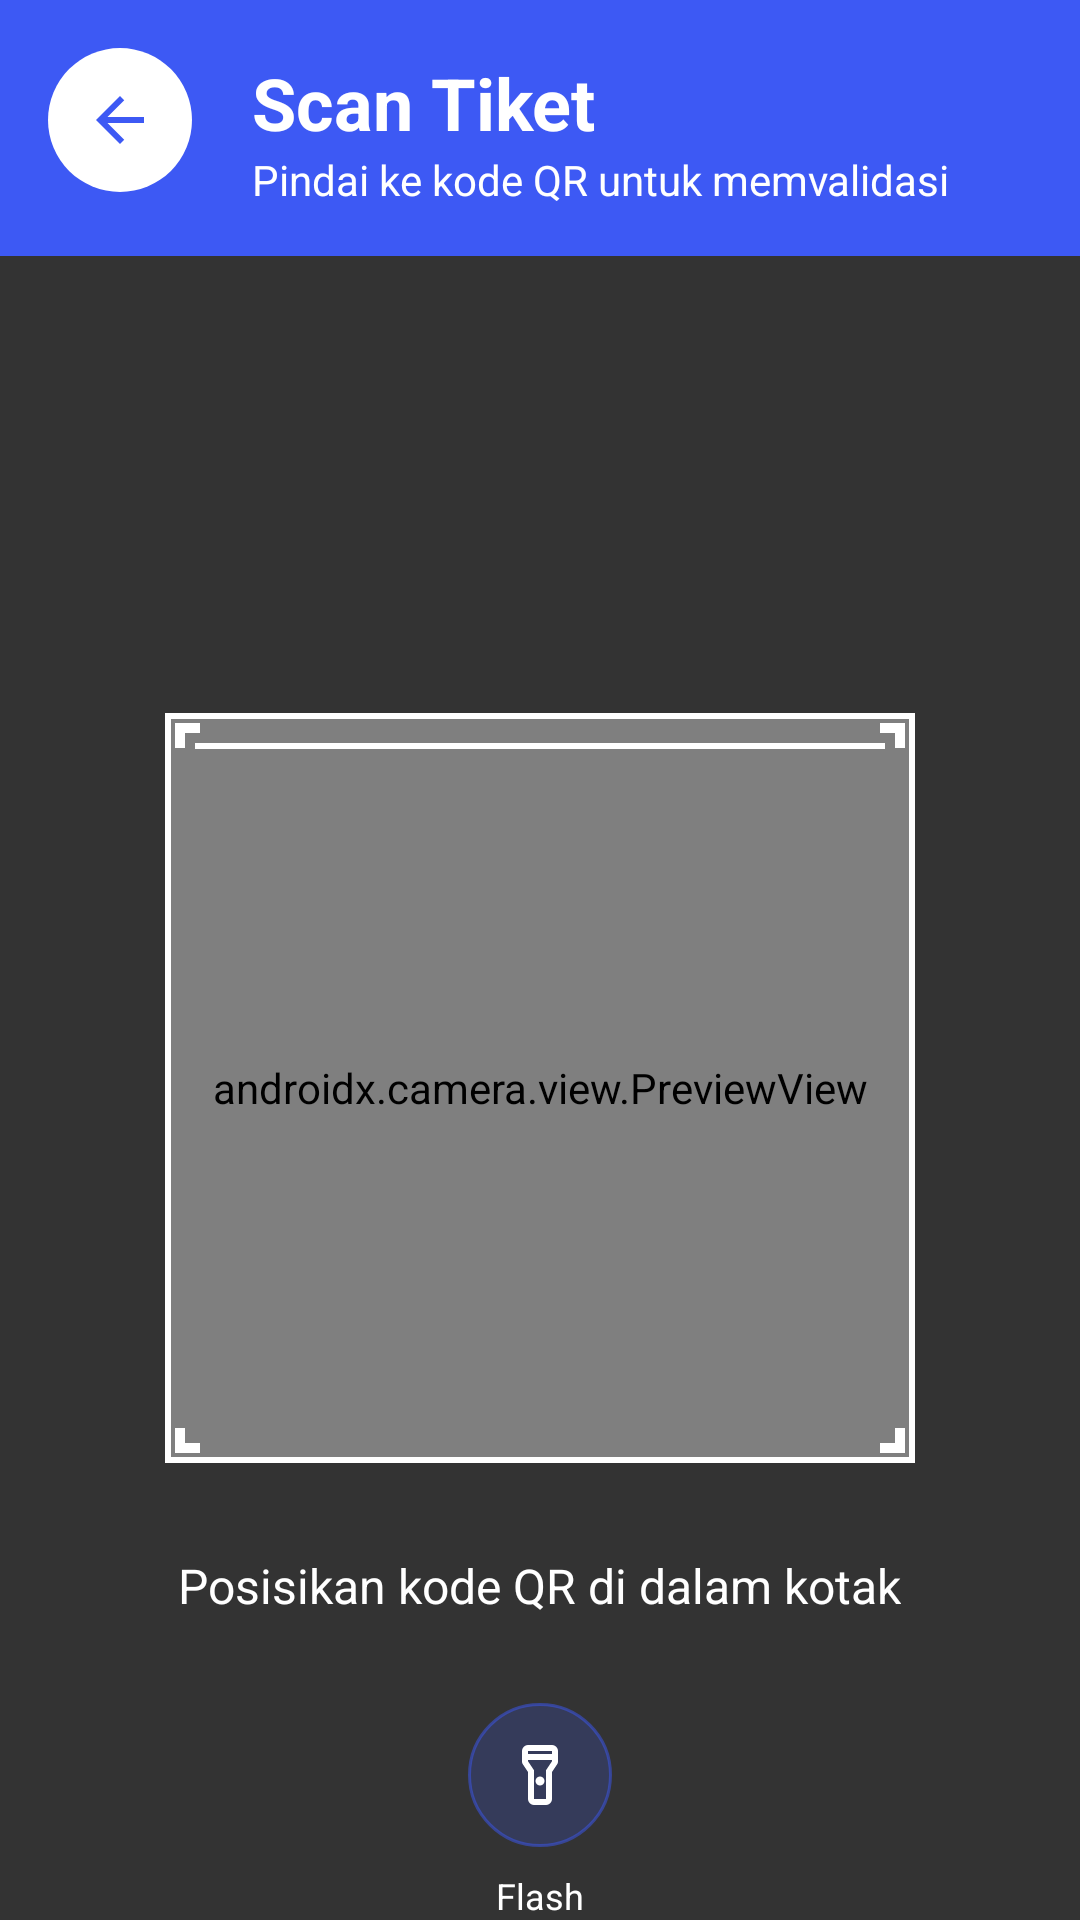

Where to tap for icons on this 1080x1920 app screen, as point (x, y):
back arrow: point (120, 120)
